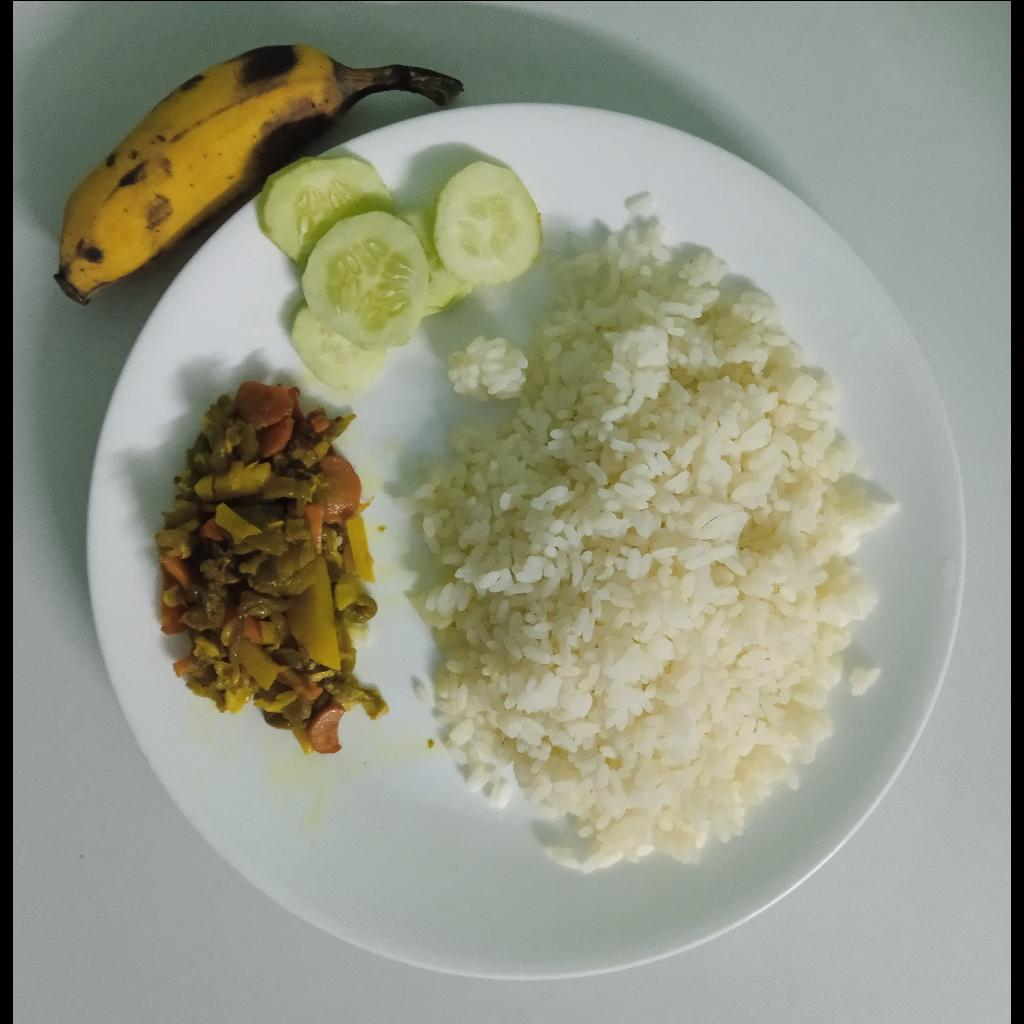banana: (54, 42, 466, 306)
cucumber: (258, 156, 543, 391)
rice: (392, 199, 889, 873)
vegetable: (158, 383, 388, 758)
